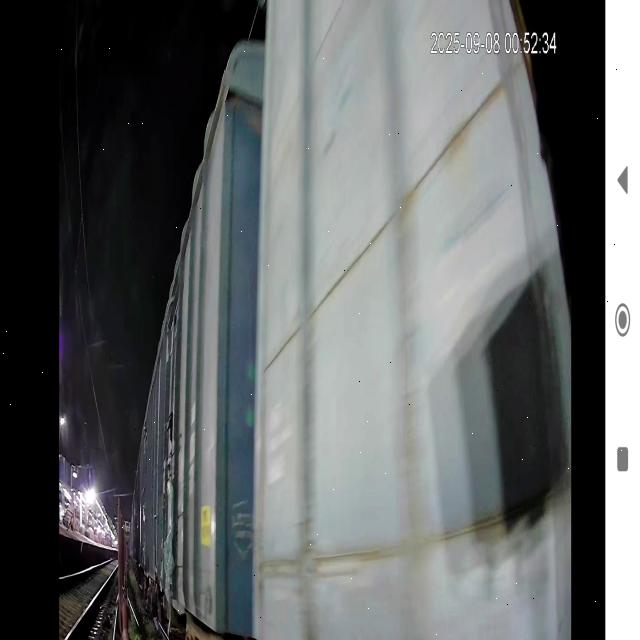joint: (210, 0, 310, 640)
